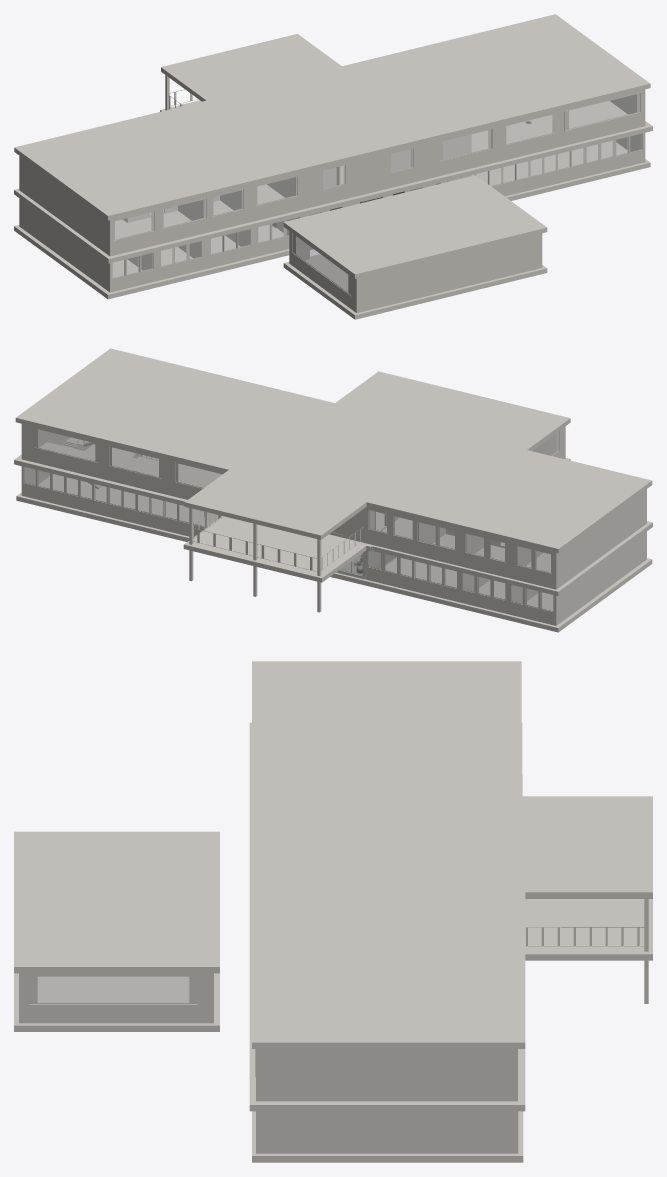
Rendered from reception_walk.glb.
3 views of the same model, one above another, from view 1: azimuth 30°, elevation 25°; view 2: azimuth 150°, elevation 25°; view 3: azimuth 270°, elevation 25° (orthographic). The views are drawn at different scales.
Visible parts, largest first — view 1: BEYOND_L2_SLAB, BEYOND_L1_WALL, BEYOND_L0_WALL, BEYOND_L0_SLAB, UPPER_in_zone, BEYOND_L1_SLAB, BEYOND_L1_GLASS, BEYOND_L0_GLASS, BEYOND_L1_FRAME, BEYOND_L0_FRAME, BEYOND_L1_OTHER, BEYOND_L0_OTHER; view 2: BEYOND_L2_SLAB, BEYOND_L1_WALL, BEYOND_L1_SLAB, BEYOND_L0_WALL, UPPER_in_zone, BEYOND_L0_SLAB, BEYOND_L1_GLASS, BEYOND_L0_GLASS, BEYOND_L0_FRAME, BEYOND_L1_FRAME, BEYOND_L1_OTHER, BEYOND_L1_STAIR (+4 smaller); view 3: BEYOND_L2_SLAB, UPPER_in_zone, BEYOND_L0_WALL, BEYOND_L1_WALL, BEYOND_L1_SLAB, BEYOND_L0_SLAB, BEYOND_L0_GLASS, BEYOND_L0_FRAME.
Part boxes in pixels (x1=…): BEYOND_L2_SLAB: x1=14, y1=14, x2=650, y2=278; BEYOND_L1_WALL: x1=19, y1=89, x2=645, y2=256; BEYOND_L0_WALL: x1=19, y1=133, x2=645, y2=313; BEYOND_L0_SLAB: x1=14, y1=122, x2=650, y2=319; UPPER_in_zone: x1=209, y1=68, x2=408, y2=191; BEYOND_L1_SLAB: x1=14, y1=100, x2=652, y2=263; BEYOND_L1_GLASS: x1=115, y1=94, x2=636, y2=238; BEYOND_L0_GLASS: x1=113, y1=134, x2=641, y2=291; BEYOND_L1_FRAME: x1=113, y1=93, x2=640, y2=240; BEYOND_L0_FRAME: x1=112, y1=134, x2=642, y2=295; BEYOND_L1_OTHER: x1=112, y1=89, x2=641, y2=240; BEYOND_L0_OTHER: x1=124, y1=133, x2=642, y2=295; BEYOND_L2_SLAB: x1=15, y1=348, x2=652, y2=553; BEYOND_L1_WALL: x1=21, y1=424, x2=646, y2=589; BEYOND_L1_SLAB: x1=14, y1=442, x2=652, y2=596; BEYOND_L0_WALL: x1=21, y1=426, x2=646, y2=625; UPPER_in_zone: x1=232, y1=420, x2=431, y2=543; BEYOND_L0_SLAB: x1=16, y1=444, x2=652, y2=632; BEYOND_L1_GLASS: x1=38, y1=429, x2=550, y2=572; BEYOND_L0_GLASS: x1=24, y1=434, x2=555, y2=610; BEYOND_L0_FRAME: x1=23, y1=431, x2=558, y2=611; BEYOND_L1_FRAME: x1=34, y1=428, x2=551, y2=573; BEYOND_L1_OTHER: x1=34, y1=428, x2=551, y2=573; BEYOND_L1_STAIR: x1=136, y1=454, x2=500, y2=570; BEYOND_L2_SLAB: x1=14, y1=661, x2=652, y2=1048; UPPER_in_zone: x1=328, y1=797, x2=519, y2=891; BEYOND_L0_WALL: x1=19, y1=973, x2=518, y2=1153; BEYOND_L1_WALL: x1=256, y1=1049, x2=517, y2=1101; BEYOND_L1_SLAB: x1=249, y1=722, x2=652, y2=1111; BEYOND_L0_SLAB: x1=14, y1=775, x2=523, y2=1162; BEYOND_L0_GLASS: x1=38, y1=977, x2=188, y2=1002; BEYOND_L0_FRAME: x1=29, y1=976, x2=197, y2=1003.
Size of the model in its own units: 38.22 by 5.6 by 27.
Materials: 16 (12 with a texture image).
